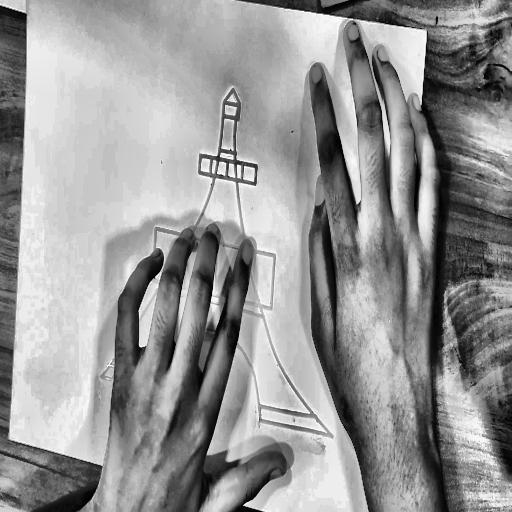bottom_left: (5, 431, 14, 446)
eiffel-tower: (86, 47, 364, 449)
top_right: (423, 25, 430, 39)
